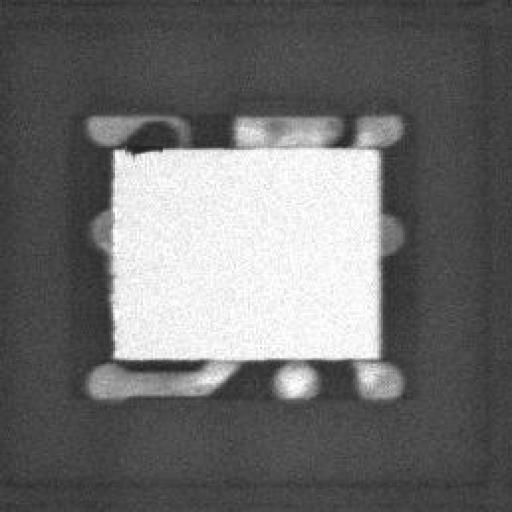DIE_BROKEN: (119, 138, 163, 154)
